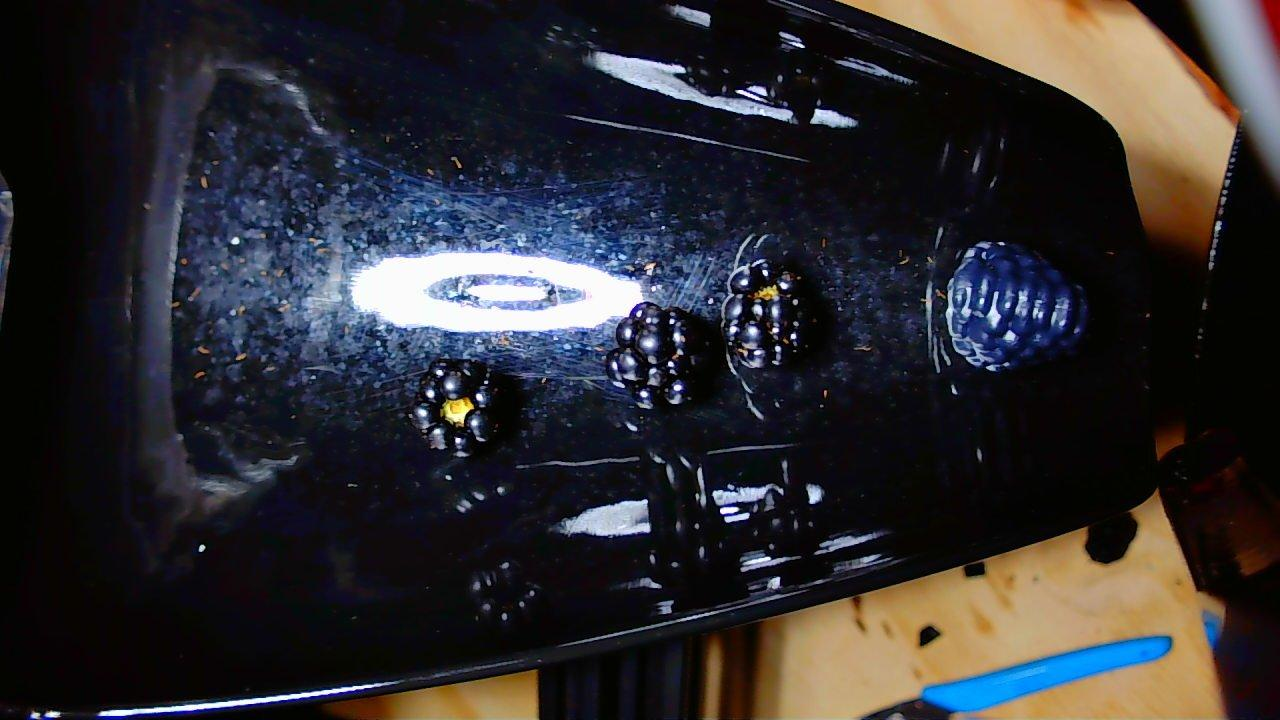berry: (944, 241, 1089, 371), (605, 302, 707, 406), (722, 258, 813, 368), (407, 359, 500, 456)
